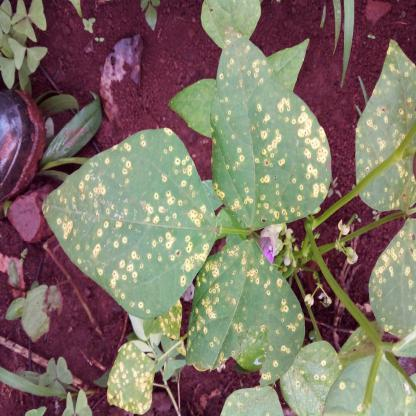Beans_Rust: (41, 128, 220, 317), (214, 23, 332, 229), (186, 238, 309, 386), (356, 37, 416, 213), (367, 217, 416, 342), (325, 354, 416, 416), (282, 339, 346, 414), (106, 340, 156, 412), (221, 386, 281, 416), (146, 296, 185, 336)
